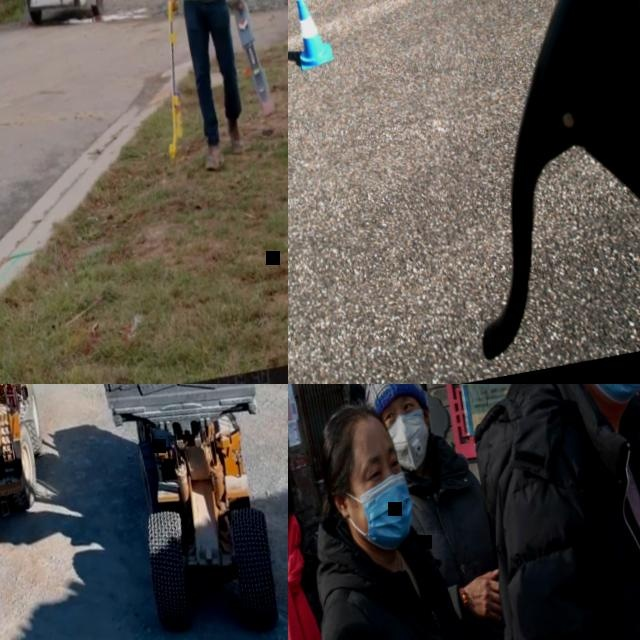Mask: (355, 471, 422, 557), (386, 407, 437, 475)
NO-Hardhat: (314, 399, 396, 474), (356, 384, 426, 410)
NO-Safety Vest: (483, 384, 640, 640), (401, 455, 518, 640), (324, 550, 511, 640), (288, 517, 375, 640), (348, 384, 362, 399), (413, 384, 427, 389)
Person: (429, 384, 640, 640), (352, 384, 535, 640), (137, 0, 272, 175), (338, 384, 372, 408)
Safety Cone: (289, 0, 335, 70)
machinery: (77, 384, 288, 640), (0, 384, 72, 546)
